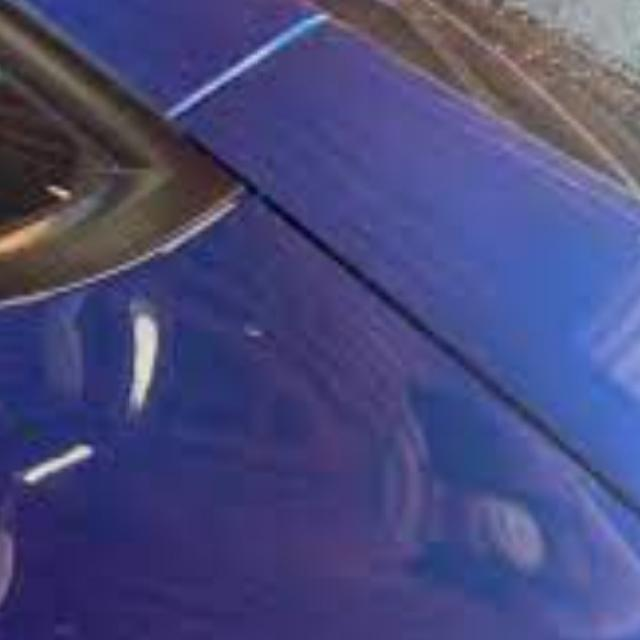dents: (219, 308, 288, 380)
